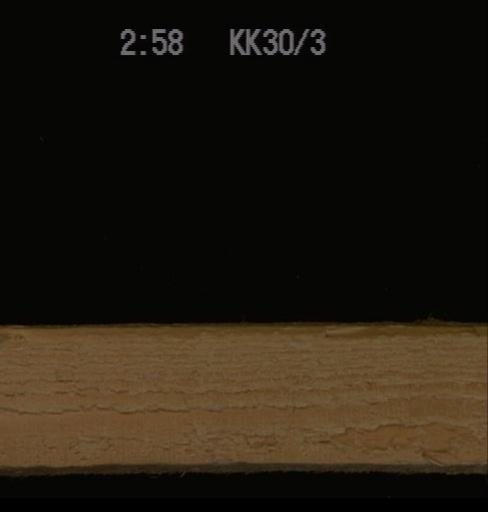wave: (0, 320, 486, 342)
